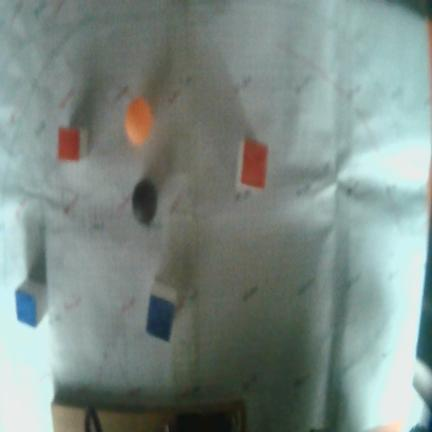circle_blue: (132, 178, 157, 225)
circle_orange: (125, 97, 153, 146)
rectangle_blue: (15, 291, 37, 332)
rectangle_orange: (58, 126, 81, 157)
square_blue: (144, 292, 177, 344)
square_orange: (242, 140, 270, 187)
